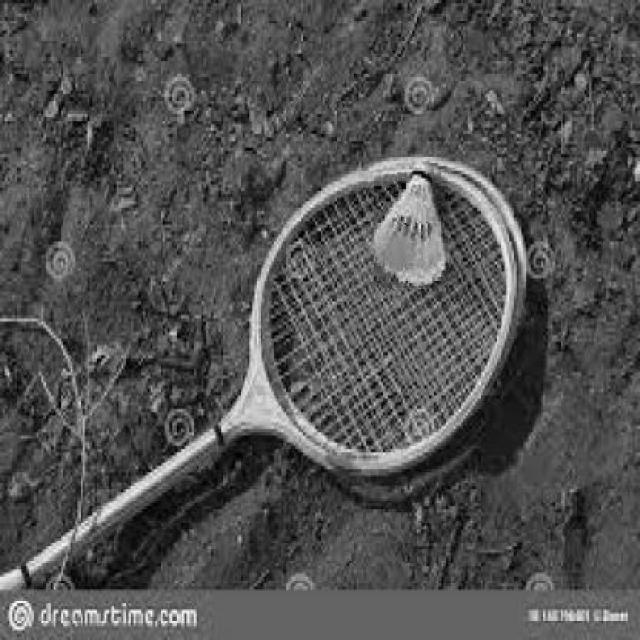Shuttlecock: (373, 157, 446, 286)
